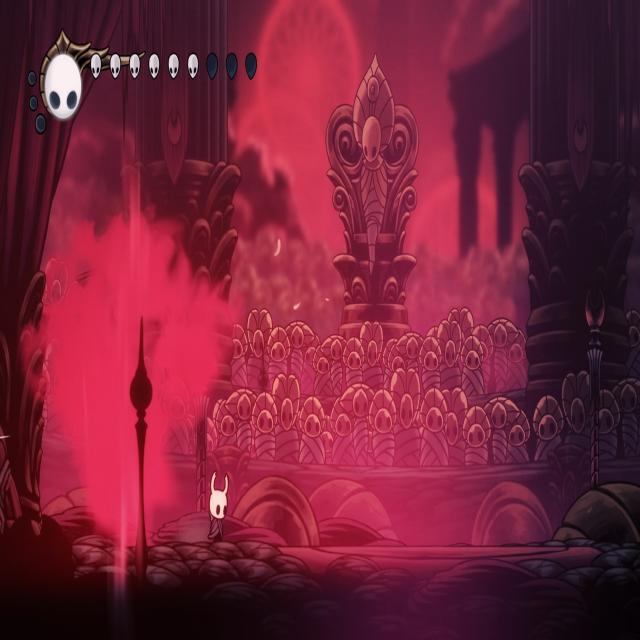Player: (204, 463, 232, 545)
